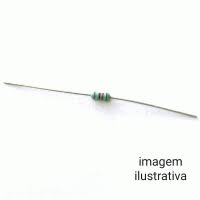resistor: (84, 81, 124, 127)
